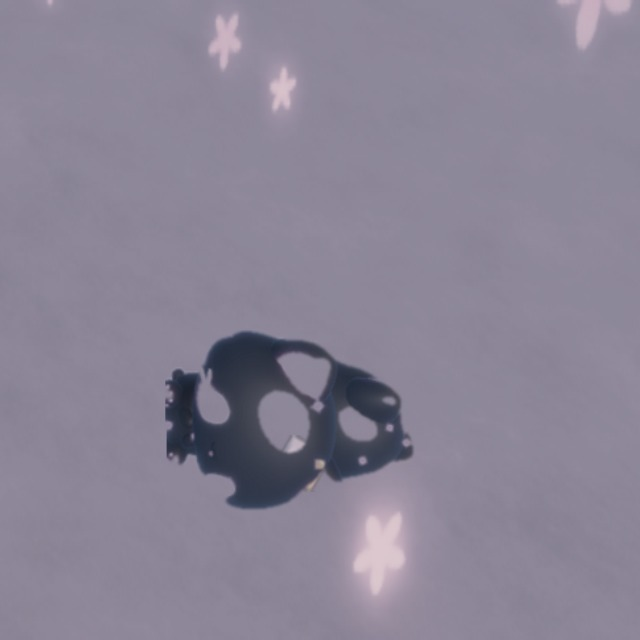urso_branco: (272, 435, 331, 492)
urso_preto: (164, 321, 432, 529)
